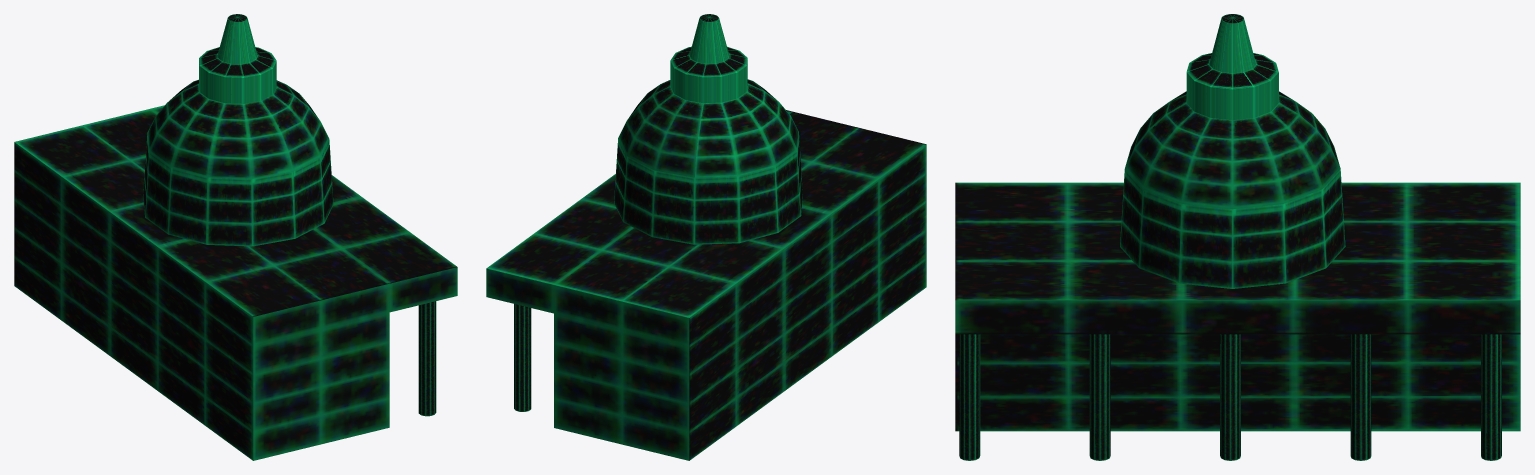
Rendered from CapitalBuilding_Green.fbx.
The picture shows the model from 3 angles, left to right: view 1: azimuth 30°, elevation 25°; view 2: azimuth 150°, elevation 25°; view 3: azimuth 270°, elevation 25°; orthographic projection. The views are drawn at different scales.
Visible parts, largest first — view 1: CapitalBuilding_Green; view 2: CapitalBuilding_Green; view 3: CapitalBuilding_Green.
Part boxes in pixels (<box>): CapitalBuilding_Green: <box>14,14,457,460</box>; CapitalBuilding_Green: <box>486,14,926,460</box>; CapitalBuilding_Green: <box>955,14,1520,460</box>.
Size of the model in its own units: 11.77 by 18.32 by 23.83.
